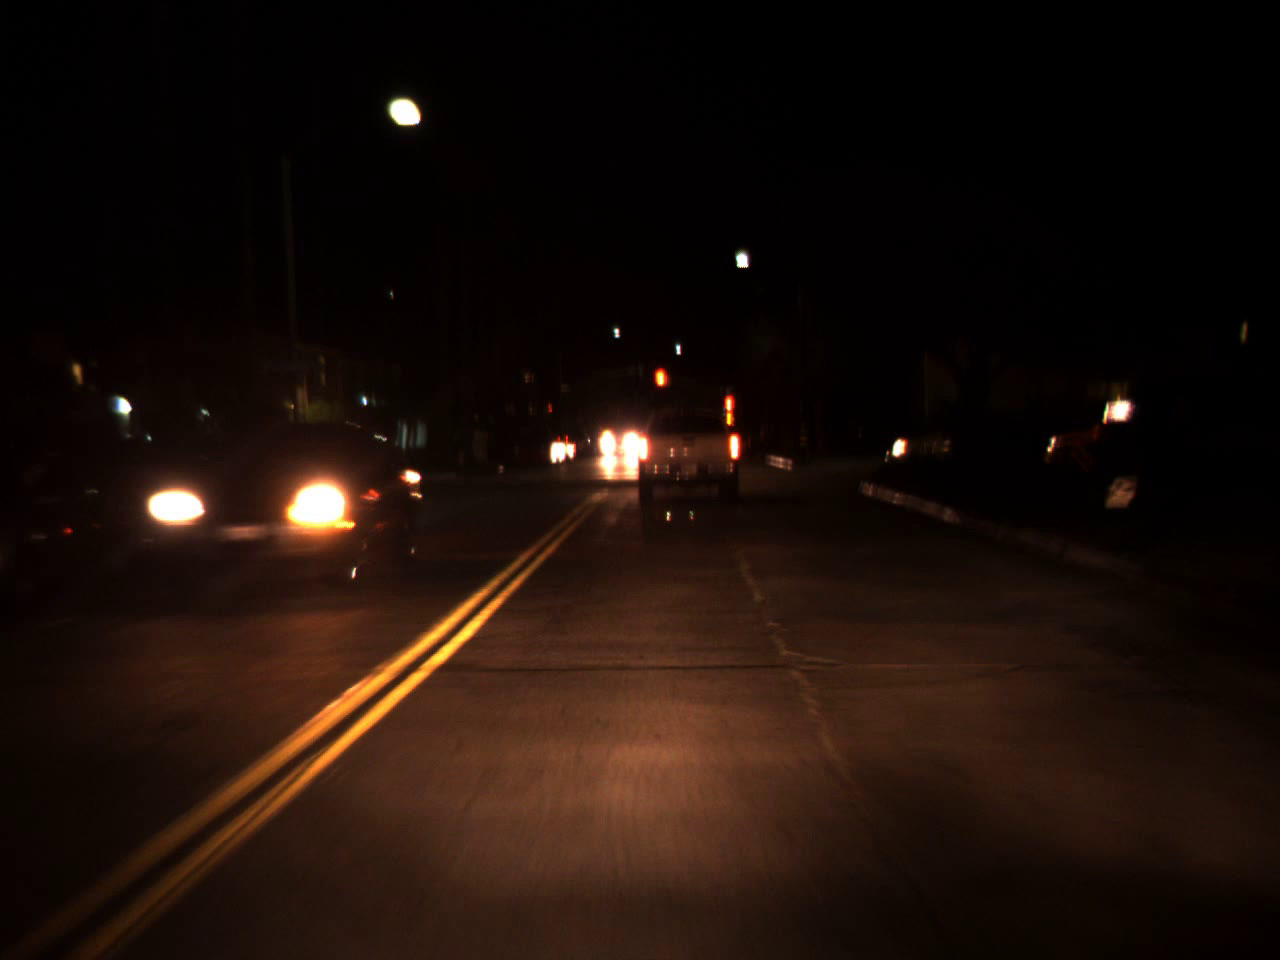stop: (653, 364, 669, 409), (725, 397, 734, 424), (547, 402, 553, 423)
